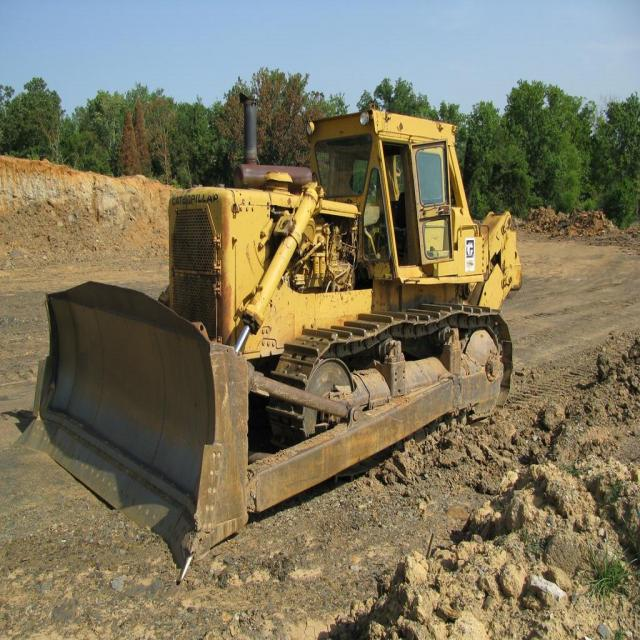Bulldozer: (44, 70, 542, 580)
